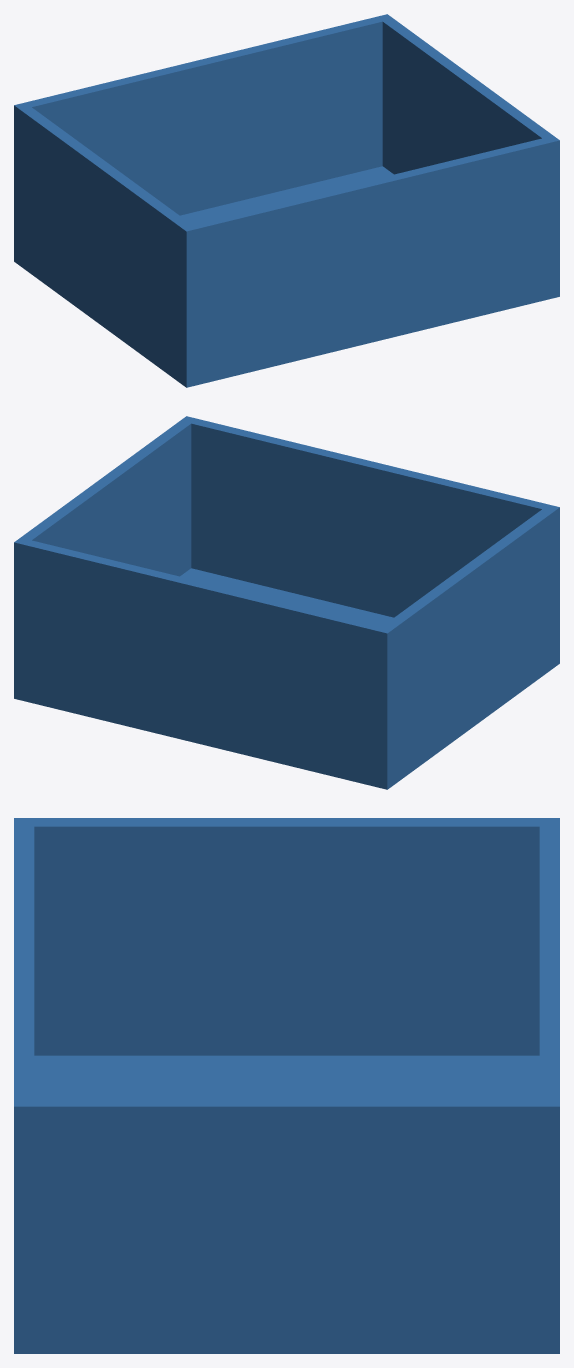
The picture shows the model from 3 angles, top to bottom: view 1: azimuth 30°, elevation 25°; view 2: azimuth 150°, elevation 25°; view 3: azimuth 270°, elevation 25°; orthographic projection. The views are drawn at different scales.
Bounding box in the file's own units: 0.2 × 0.08 × 0.16.
